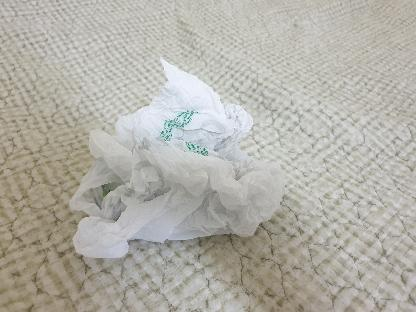Plastic Bag: (67, 57, 288, 263)
